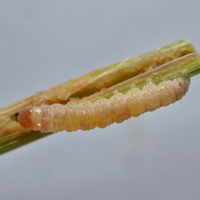insect: (0, 40, 199, 152)
